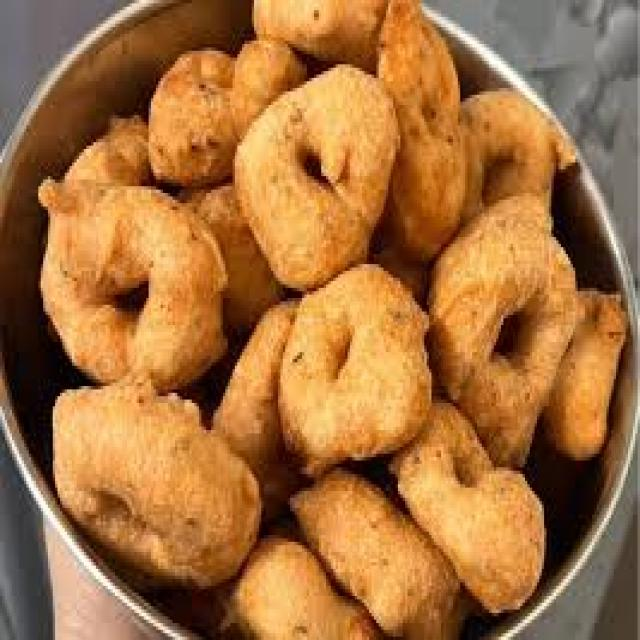MEDU VADA: (34, 0, 619, 637)
